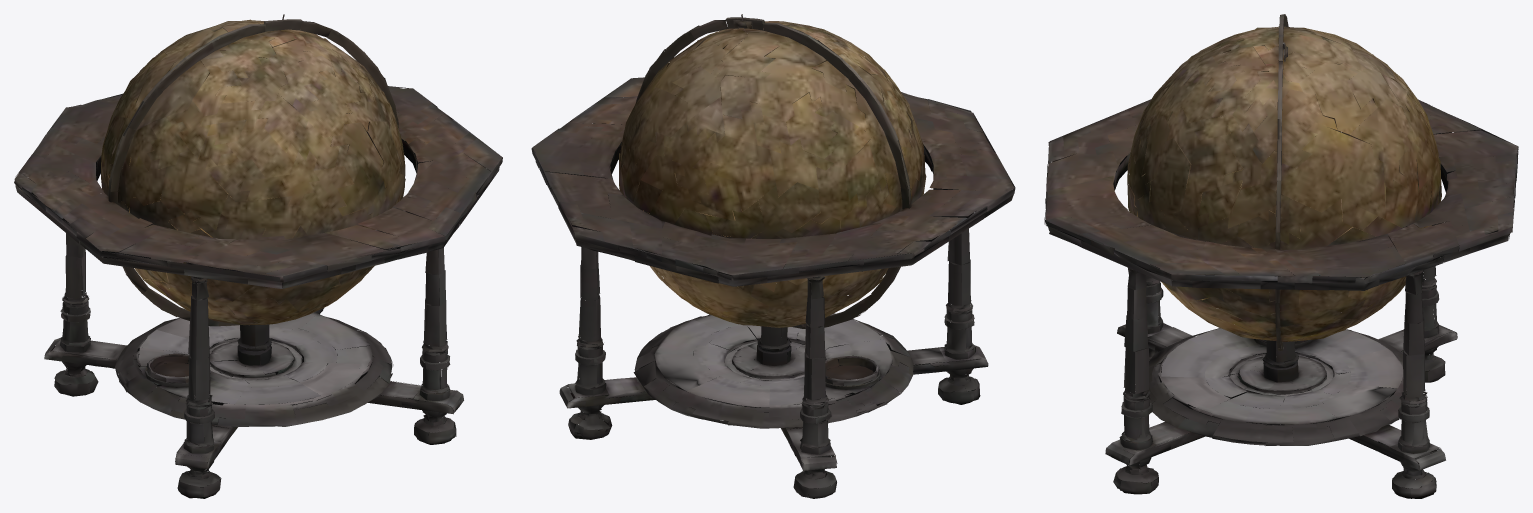
The model's file is coti_celestial_globe.glb.
3 renders of one model, left to right at view 1: azimuth 30°, elevation 25°; view 2: azimuth 150°, elevation 25°; view 3: azimuth 270°, elevation 25°, orthographic. The views are drawn at different scales.
Parts seen in each view (by area): view 1: Object_10; view 2: Object_10; view 3: Object_10.
Boxes of the visible parts, x1,y1,x2,y2 form: Object_10: [14, 14, 502, 498]; Object_10: [531, 14, 1015, 498]; Object_10: [1044, 14, 1518, 498].
Bounding box in the file's own units: 0.5283 × 0.4998 × 0.5279.
6 materials, 6 textured.
